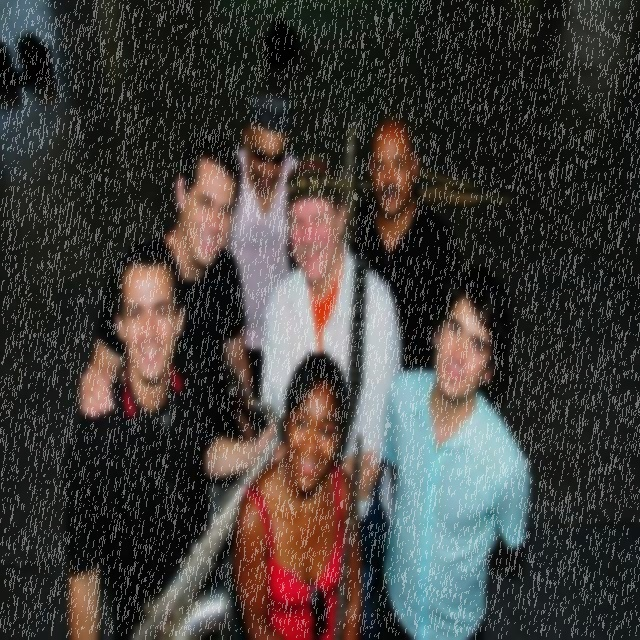pessoa: (60, 228, 292, 638), (258, 153, 404, 639), (345, 112, 463, 638), (372, 258, 532, 638), (77, 128, 260, 448), (231, 348, 366, 638), (218, 82, 302, 446), (0, 16, 58, 116)
